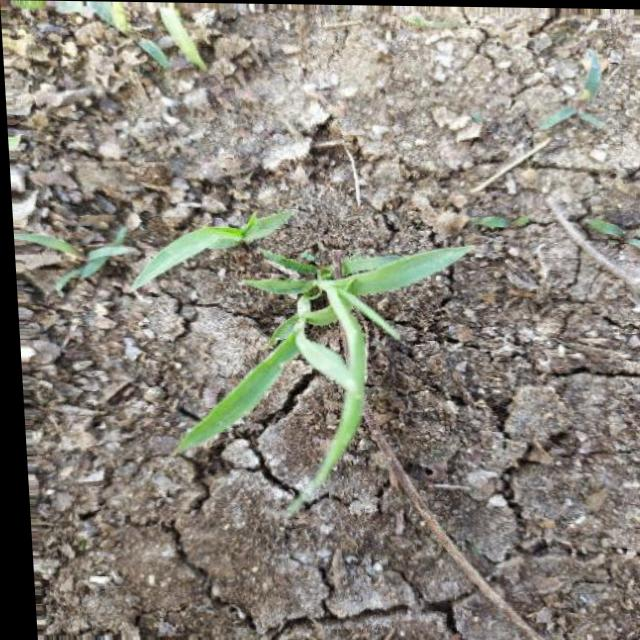weed: (115, 196, 494, 524)
